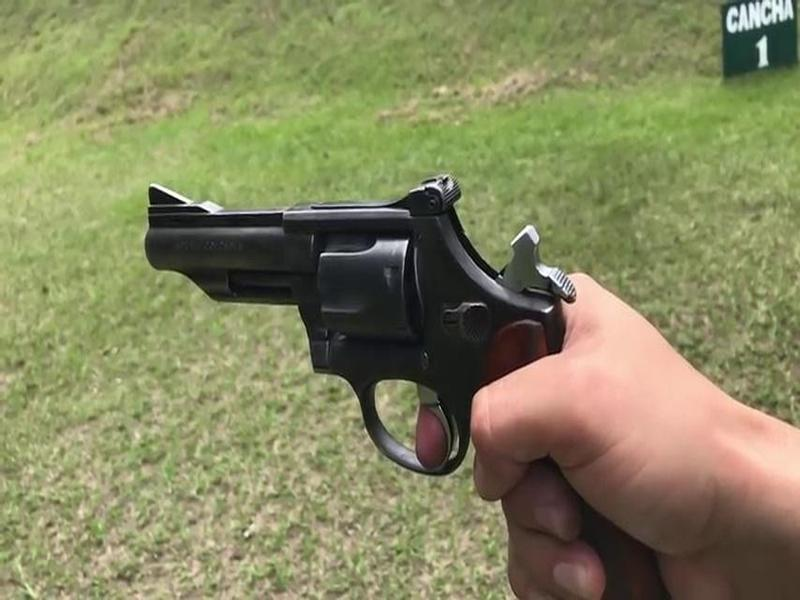Revolver: (146, 123, 572, 494)
